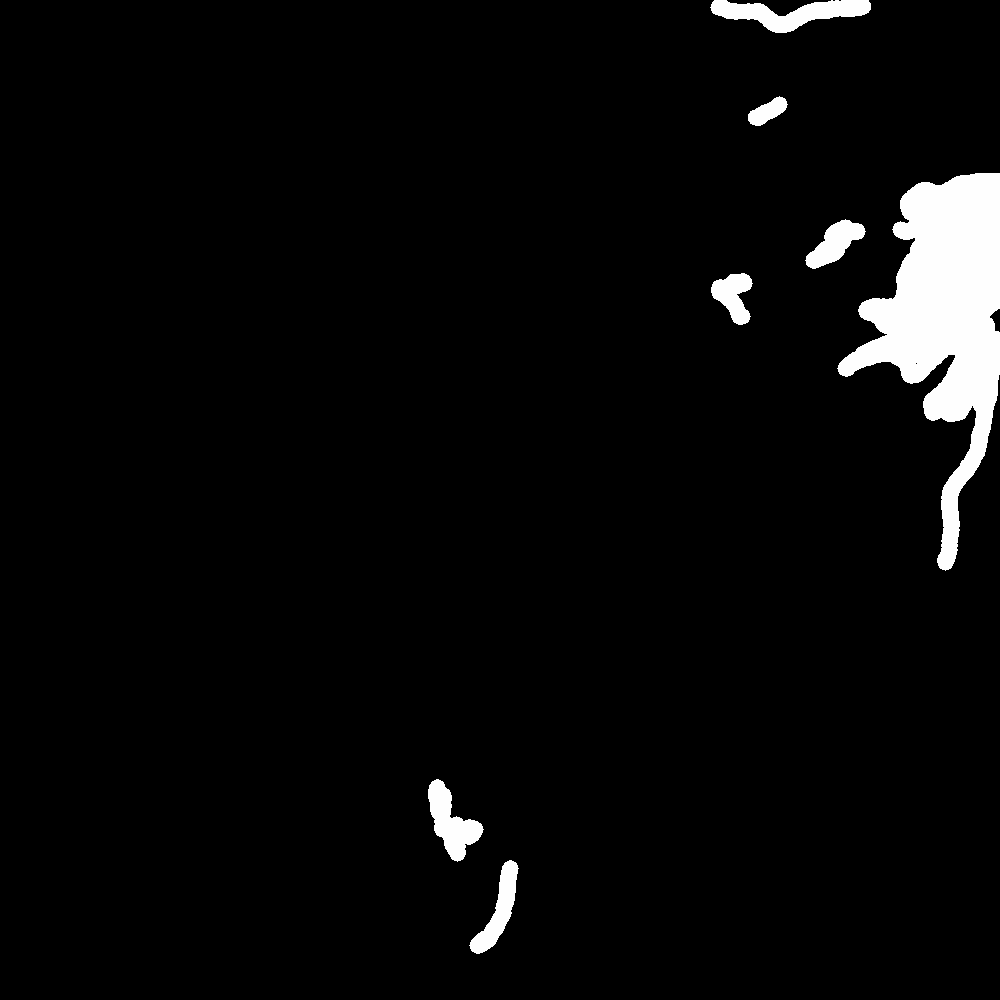illegal: (879, 175, 1000, 415), (937, 383, 999, 507), (698, 1, 885, 38), (433, 781, 490, 866), (467, 865, 522, 952), (811, 217, 871, 265), (744, 85, 789, 126), (849, 350, 878, 380)
